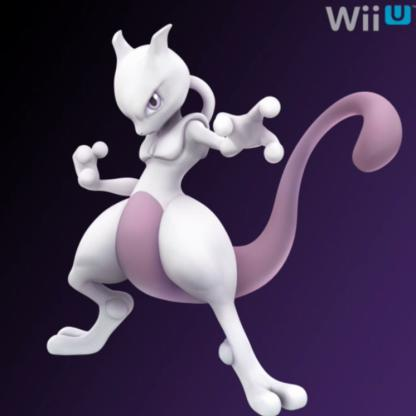Mewtwo: (44, 24, 416, 416)
